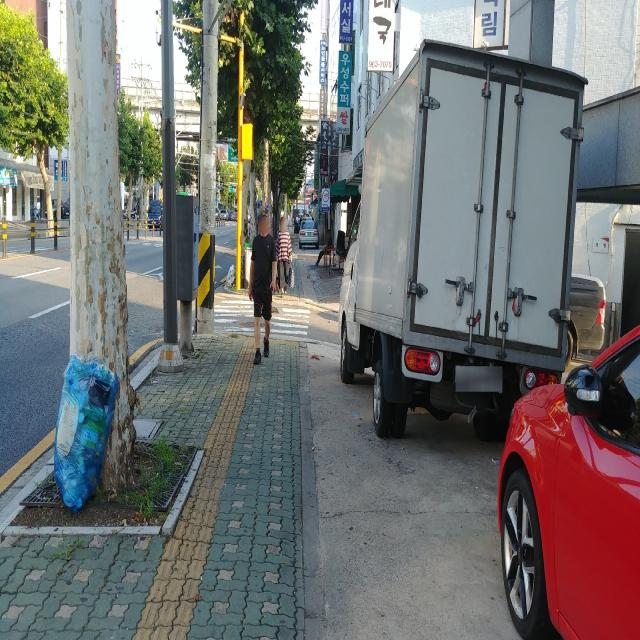횡단보도: (191, 301, 311, 335)
